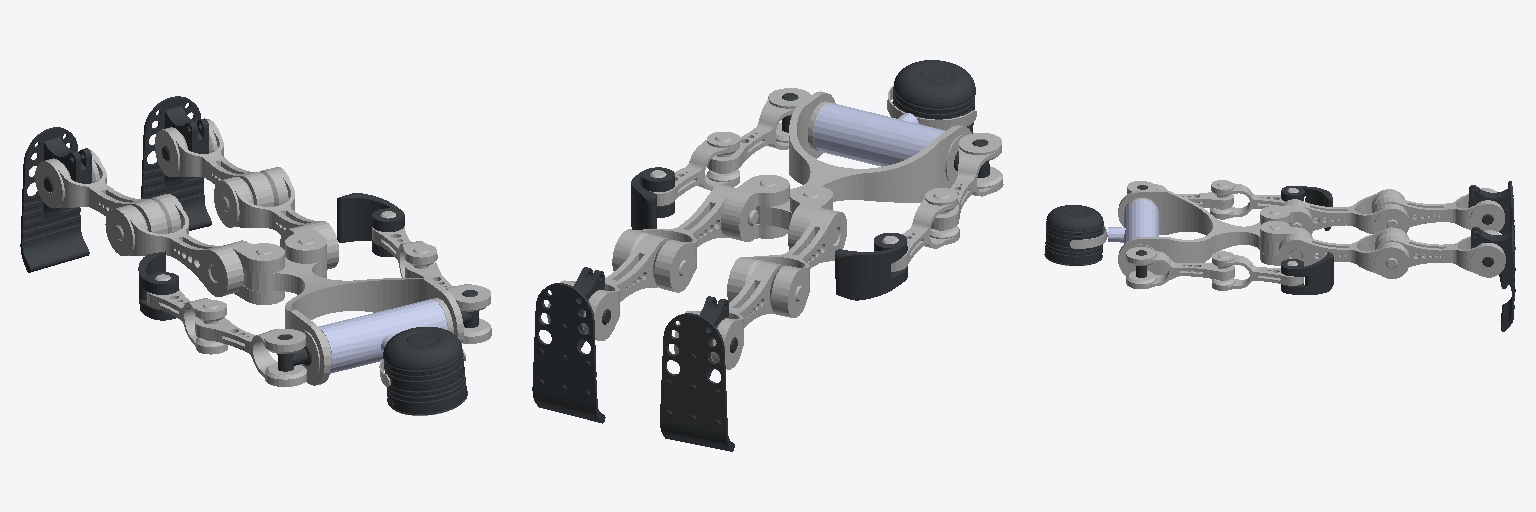
--- Render facts (derived) ---
The picture shows the robot from 3 angles, left to right: view 1: azimuth 30°, elevation 25°; view 2: azimuth 150°, elevation 25°; view 3: azimuth 270°, elevation 25°; orthographic projection.
Model humaniodURDF with 21 links and 20 joints (18 revolute, 2 fixed), rooted at trunk, posed every joint at zero.
Links seen in each view (by area): view 1: trunk, rightFoot, head, rightUpperLeg, leftFoot, shoulder, leftUpperLeg, rightLowLeg, leftLowLeg, rightUpperArm, leftHand, rightLowArm (+6 smaller); view 2: trunk, rightFoot, leftFoot, shoulder, rightUpperLeg, leftUpperLeg, head, rightHand, leftLowLeg, rightLowLeg, rightUpperArm, leftLeg (+6 smaller); view 3: trunk, leftUpperLeg, head, leftLowLeg, rightUpperLeg, rightLowLeg, leftUpperArm, leftLowArm, leftHand, leftFoot, shoulder, rightLowArm (+5 smaller).
Boxes of the visible links, x1=… form: trunk: x1=243, y1=238, x2=463, y2=385; rightFoot: x1=20, y1=127, x2=91, y2=272; head: x1=383, y1=327, x2=467, y2=414; rightUpperLeg: x1=105, y1=194, x2=243, y2=296; leftFoot: x1=141, y1=96, x2=211, y2=230; shoulder: x1=319, y1=299, x2=447, y2=373; leftUpperLeg: x1=214, y1=167, x2=338, y2=269; rightLowLeg: x1=35, y1=149, x2=167, y2=240; leftLowLeg: x1=155, y1=119, x2=273, y2=211; rightUpperArm: x1=195, y1=302, x2=306, y2=386; leftHand: x1=337, y1=193, x2=404, y2=256; rightLowArm: x1=147, y1=274, x2=227, y2=354; trunk: x1=756, y1=91, x2=971, y2=229; rightFoot: x1=660, y1=296, x2=737, y2=451; leftFoot: x1=532, y1=267, x2=610, y2=423; shoulder: x1=813, y1=103, x2=945, y2=166; rightUpperLeg: x1=727, y1=208, x2=846, y2=317; leftUpperLeg: x1=612, y1=184, x2=758, y2=292; head: x1=892, y1=60, x2=975, y2=133; rightHand: x1=835, y1=233, x2=907, y2=300; leftLowLeg: x1=547, y1=234, x2=687, y2=340; rightLowLeg: x1=674, y1=261, x2=802, y2=369; rightUpperArm: x1=931, y1=133, x2=1003, y2=230; leftLeg: x1=721, y1=175, x2=789, y2=241; trunk: x1=1118, y1=190, x2=1289, y2=279; leftUpperLeg: x1=1279, y1=227, x2=1409, y2=278; head: x1=1044, y1=205, x2=1103, y2=265; leftLowLeg: x1=1375, y1=230, x2=1505, y2=277; rightUpperLeg: x1=1281, y1=189, x2=1409, y2=233; rightLowLeg: x1=1373, y1=188, x2=1504, y2=231; leftUpperArm: x1=1126, y1=247, x2=1234, y2=288; leftLowArm: x1=1212, y1=251, x2=1303, y2=290; leftHand: x1=1281, y1=252, x2=1333, y2=294; leftFoot: x1=1471, y1=224, x2=1515, y2=331; shoulder: x1=1108, y1=200, x2=1158, y2=243; rightLowArm: x1=1210, y1=180, x2=1298, y2=219.
Size in the robot's own frame: 0.8044 by 1.78 by 0.3954 metres.
21 mesh visuals loaded from 21 distinct referenced files (21 binary STL).

The robot description file, URDF, robot "humaniodURDF":
<?xml version="1.0" encoding="utf-8"?>
<!-- This URDF was automatically created by SolidWorks to URDF Exporter! Originally created by Stephen Brawner ([email redacted]) 
     Commit Version: 1.6.0-1-g15f4949  Build Version: 1.6.7594.29634
     For more information, please see http://wiki.ros.org/sw_urdf_exporter -->
<robot
  name="humaniodURDF">
  <link
    name="trunk">
    <inertial>
      <origin
        xyz="-0.0196007541950083 -0.648944948529495 0.024353385968482"
        rpy="0 0 0" />
      <mass
        value="5.59080938664047" />
      <inertia
        ixx="0.247517365727123"
        ixy="-7.89918654007842E-07"
        ixz="-4.97184130106616E-07"
        iyy="0.124563077930789"
        iyz="5.75895982312612E-06"
        izz="0.359003812638167" />
    </inertial>
    <visual>
      <origin
        xyz="0 0 0"
        rpy="0 0 0" />
      <geometry>
        <mesh
          filename="package://humaniodURDF/meshes/trunk.STL" />
      </geometry>
      <material
        name="">
        <color
          rgba="0.745098039215686 0.745098039215686 0.745098039215686 1" />
      </material>
    </visual>
    <collision>
      <origin
        xyz="0 0 0"
        rpy="0 0 0" />
      <geometry>
        <mesh
          filename="package://humaniodURDF/meshes/trunk.STL" />
      </geometry>
    </collision>
  </link>
  <link
    name="shoulder">
    <inertial>
      <origin
        xyz="0.00281413265535579 7.70049718122612E-08 0.019600317547966"
        rpy="0 0 0" />
      <mass
        value="0.686395170990813" />
      <inertia
        ixx="0.00865551764844077"
        ixy="3.51058697522643E-09"
        ixz="-2.05382303951221E-08"
        iyy="0.00881608629420832"
        iyz="-1.00843509235348E-09"
        izz="0.00291651715730352" />
    </inertial>
    <visual>
      <origin
        xyz="0 0 0"
        rpy="0 0 0" />
      <geometry>
        <mesh
          filename="package://humaniodURDF/meshes/shoulder.STL" />
      </geometry>
      <material
        name="">
        <color
          rgba="0.792156862745098 0.819607843137255 0.933333333333333 1" />
      </material>
    </visual>
    <collision>
      <origin
        xyz="0 0 0"
        rpy="0 0 0" />
      <geometry>
        <mesh
          filename="package://humaniodURDF/meshes/shoulder.STL" />
      </geometry>
    </collision>
  </link>
  <joint
    name="shoulderJoint"
    type="revolute">
    <origin
      xyz="0 -0.892320830662467 0.0243476825361448"
      rpy="1.5707963267949 -0.0373647645618865 -1.5707963267949" />
    <parent
      link="trunk" />
    <child
      link="shoulder" />
    <axis
      xyz="0 0 1" />
    <limit
      lower="0"
      upper="0"
      effort="0"
      velocity="0" />
  </joint>
  <link
    name="neck">
    <inertial>
      <origin
        xyz="8.12323459886688E-08 4.66688775437041E-08 0.0781850292263323"
        rpy="0 0 0" />
      <mass
        value="0.319541921315556" />
      <inertia
        ixx="0.00112647457064757"
        ixy="3.97035096891069E-09"
        ixz="-3.57396472130261E-09"
        iyy="0.00164167149754665"
        iyz="6.2472139464942E-10"
        izz="0.000626379797317439" />
    </inertial>
    <visual>
      <origin
        xyz="0 0 0"
        rpy="0 0 0" />
      <geometry>
        <mesh
          filename="package://humaniodURDF/meshes/neck.STL" />
      </geometry>
      <material
        name="">
        <color
          rgba="0.745098039215686 0.745098039215686 0.745098039215686 1" />
      </material>
    </visual>
    <collision>
      <origin
        xyz="0 0 0"
        rpy="0 0 0" />
      <geometry>
        <mesh
          filename="package://humaniodURDF/meshes/neck.STL" />
      </geometry>
    </collision>
  </link>
  <joint
    name="neckJoint"
    type="revolute">
    <origin
      xyz="0.016865 0 0.0196"
      rpy="1.5708 1.4822 1.5708" />
    <parent
      link="shoulder" />
    <child
      link="neck" />
    <axis
      xyz="0 0 1" />
    <limit
      lower="0"
      upper="0"
      effort="0"
      velocity="0" />
  </joint>
  <link
    name="head">
    <inertial>
      <origin
        xyz="3.40361308503664E-06 0.00614774631013307 8.79188126967634E-07"
        rpy="0 0 0" />
      <mass
        value="0.151198318939457" />
      <inertia
        ixx="0.00128943819163848"
        ixy="4.35664804797042E-09"
        ixz="-5.21634488341657E-07"
        iyy="0.00154248586396279"
        iyz="-5.92070333195862E-09"
        izz="0.00131076510276719" />
    </inertial>
    <visual>
      <origin
        xyz="0 0 0"
        rpy="0 0 0" />
      <geometry>
        <mesh
          filename="package://humaniodURDF/meshes/head.STL" />
      </geometry>
      <material
        name="">
        <color
          rgba="0.262745098039216 0.282352941176471 0.298039215686275 1" />
      </material>
    </visual>
    <collision>
      <origin
        xyz="0 0 0"
        rpy="0 0 0" />
      <geometry>
        <mesh
          filename="package://humaniodURDF/meshes/head.STL" />
      </geometry>
    </collision>
  </link>
  <joint
    name="headJoint"
    type="fixed">
    <origin
      xyz="0 0 0.236817064766238"
      rpy="0 0 0" />
    <parent
      link="neck" />
    <child
      link="head" />
    <axis
      xyz="0 0 0" />
    <limit
      lower="0"
      upper="0"
      effort="0"
      velocity="0" />
  </joint>
  <link
    name="face">
    <inertial>
      <origin
        xyz="0 -0.00309876283174063 0"
        rpy="0 0 0" />
      <mass
        value="0.0657059672105683" />
      <inertia
        ixx="0.0001932443956556"
        ixy="6.63015039463304E-19"
        ixz="-2.71050543121376E-20"
        iyy="0.000386454172107391"
        iyz="-1.18838722499778E-18"
        izz="0.0001932443956556" />
    </inertial>
    <visual>
      <origin
        xyz="0 0 0"
        rpy="0 0 0" />
      <geometry>
        <mesh
          filename="package://humaniodURDF/meshes/face.STL" />
      </geometry>
      <material
        name="">
        <color
          rgba="0.745098039215686 0.745098039215686 0.745098039215686 1" />
      </material>
    </visual>
    <collision>
      <origin
        xyz="0 0 0"
        rpy="0 0 0" />
      <geometry>
        <mesh
          filename="package://humaniodURDF/meshes/face.STL" />
      </geometry>
    </collision>
  </link>
  <joint
    name="faceJoint"
    type="fixed">
    <origin
      xyz="0 -0.0889127371682583 0"
      rpy="3.14159265358979 -0.511507995868017 -3.14159265358979" />
    <parent
      link="head" />
    <child
      link="face" />
    <axis
      xyz="-0.0588509881535453 0.995379127212307 -0.0758745959028304" />
  </joint>
  <link
    name="leftShoulder">
    <inertial>
      <origin
        xyz="0.0918073535217744 -1.7787782136125E-08 1.52168755707116E-07"
        rpy="0 0 0" />
      <mass
        value="0.398306716640249" />
      <inertia
        ixx="0.000379759274328992"
        ixy="-2.80746671550173E-09"
        ixz="-3.69146561641154E-10"
        iyy="0.000861309636580548"
        iyz="-2.70985979680926E-09"
        izz="0.00113108827179537" />
    </inertial>
    <visual>
      <origin
        xyz="0 0 0"
        rpy="0 0 0" />
      <geometry>
        <mesh
          filename="package://humaniodURDF/meshes/leftShoulder.STL" />
      </geometry>
      <material
        name="">
        <color
          rgba="0.262745098039216 0.282352941176471 0.298039215686275 1" />
      </material>
    </visual>
    <collision>
      <origin
        xyz="0 0 0"
        rpy="0 0 0" />
      <geometry>
        <mesh
          filename="package://humaniodURDF/meshes/leftShoulder.STL" />
      </geometry>
    </collision>
  </link>
  <joint
    name="leftShoulderJoint"
    type="revolute">
    <origin
      xyz="0.14264 -0.89232 0.024348"
      rpy="-1.5742 0 0" />
    <parent
      link="trunk" />
    <child
      link="leftShoulder" />
    <axis
      xyz="1 0 0" />
    <limit
      lower="0"
      upper="0"
      effort="0"
      velocity="0" />
  </joint>
  <link
    name="leftUpperArm">
    <inertial>
      <origin
        xyz="-1.0563352220716E-08 -1.25698858080558E-05 -0.135948032674192"
        rpy="0 0 0" />
      <mass
        value="1.22449547352017" />
      <inertia
        ixx="0.0242187730875998"
        ixy="-1.12933198423838E-09"
        ixz="-1.01190256799049E-08"
        iyy="0.0252517370821193"
        iyz="-2.11304105927723E-06"
        izz="0.00246877671143393" />
    </inertial>
    <visual>
      <origin
        xyz="0 0 0"
        rpy="0 0 0" />
      <geometry>
        <mesh
          filename="package://humaniodURDF/meshes/leftUpperArm.STL" />
      </geometry>
      <material
        name="">
        <color
          rgba="0.745098039215686 0.745098039215686 0.745098039215686 1" />
      </material>
    </visual>
    <collision>
      <origin
        xyz="0 0 0"
        rpy="0 0 0" />
      <geometry>
        <mesh
          filename="package://humaniodURDF/meshes/leftUpperArm.STL" />
      </geometry>
    </collision>
  </link>
  <joint
    name="leftUpperArmJoint"
    type="revolute">
    <origin
      xyz="0.128906887410836 0 0"
      rpy="3.06340623894063 0 -1.5707963267949" />
    <parent
      link="leftShoulder" />
    <child
      link="leftUpperArm" />
    <axis
      xyz="1 0 0" />
    <limit
      lower="0"
      upper="0"
      effort="0"
      velocity="0" />
  </joint>
  <link
    name="leftLowArm">
    <inertial>
      <origin
        xyz="4.56590011632674E-09 -1.32690687111858E-05 -0.143238186727596"
        rpy="0 0 0" />
      <mass
        value="0.889919890504689" />
      <inertia
        ixx="0.0122727616722074"
        ixy="-2.77887950443558E-10"
        ixz="-8.75320512326214E-09"
        iyy="0.0129678330826334"
        iyz="-1.06952215436892E-06"
        izz="0.00144235018216805" />
    </inertial>
    <visual>
      <origin
        xyz="0 0 0"
        rpy="0 0 0" />
      <geometry>
        <mesh
          filename="package://humaniodURDF/meshes/leftLowArm.STL" />
      </geometry>
      <material
        name="">
        <color
          rgba="0.745098039215686 0.745098039215686 0.745098039215686 1" />
      </material>
    </visual>
    <collision>
      <origin
        xyz="0 0 0"
        rpy="0 0 0" />
      <geometry>
        <mesh
          filename="package://humaniodURDF/meshes/leftLowArm.STL" />
      </geometry>
    </collision>
  </link>
  <joint
    name="leftElbow"
    type="revolute">
    <origin
      xyz="0 -2.8829164424371E-05 -0.311149998664438"
      rpy="-0.102170080502436 0 0" />
    <parent
      link="leftUpperArm" />
    <child
      link="leftLowArm" />
    <axis
      xyz="1 0 0" />
    <limit
      lower="0"
      upper="0"
      effort="0"
      velocity="0" />
  </joint>
  <link
    name="leftHand">
    <inertial>
      <origin
        xyz="1.98012649304247E-05 0.000283275387074677 -0.0693309767624268"
        rpy="0 0 0" />
      <mass
        value="0.793553314793186" />
      <inertia
        ixx="0.00371655908859085"
        ixy="-1.92812890678629E-07"
        ixz="3.08565752039683E-07"
        iyy="0.00418080865538126"
        iyz="-0.000503457171592002"
        izz="0.00179333225741833" />
    </inertial>
    <visual>
      <origin
        xyz="0 0 0"
        rpy="0 0 0" />
      <geometry>
        <mesh
          filename="package://humaniodURDF/meshes/leftHand.STL" />
      </geometry>
      <material
        name="">
        <color
          rgba="0.262745098039216 0.282352941176471 0.298039215686275 1" />
      </material>
    </visual>
    <collision>
      <origin
        xyz="0 0 0"
        rpy="0 0 0" />
      <geometry>
        <mesh
          filename="package://humaniodURDF/meshes/leftHand.STL" />
      </geometry>
    </collision>
  </link>
  <joint
    name="leftWrist"
    type="revolute">
    <origin
      xyz="0 -2.47107123608759E-05 -0.266699998855232"
      rpy="-0.276918679247829 1.26654224345601E-05 -3.1415480917339" />
    <parent
      link="leftLowArm" />
    <child
      link="leftHand" />
    <axis
      xyz="0.999999998926914 -4.6326794879854E-05 0" />
    <limit
      lower="0"
      upper="0"
      effort="0"
      velocity="0" />
  </joint>
  <link
    name="rightShoulder">
    <inertial>
      <origin
        xyz="0.0918073535217748 -1.7787782136125E-08 1.52168755596094E-07"
        rpy="0 0 0" />
      <mass
        value="0.398306716640246" />
      <inertia
        ixx="0.000379755493333687"
        ixy="-1.85701887390622E-09"
        ixz="-1.19085319234107E-09"
        iyy="0.000861306869954538"
        iyz="-3.49607611312358E-09"
        izz="0.00113108652107156" />
    </inertial>
    <visual>
      <origin
        xyz="0 0 0"
        rpy="0 0 0" />
      <geometry>
        <mesh
          filename="package://humaniodURDF/meshes/rightShoulder.STL" />
      </geometry>
      <material
        name="">
        <color
          rgba="0.262745098039216 0.282352941176471 0.298039215686275 1" />
      </material>
    </visual>
    <collision>
      <origin
        xyz="0 0 0"
        rpy="0 0 0" />
      <geometry>
        <mesh
          filename="package://humaniodURDF/meshes/rightShoulder.STL" />
      </geometry>
    </collision>
  </link>
  <joint
    name="rightShoulderJoint"
    type="revolute">
    <origin
      xyz="-0.18184 -0.89232 0.024348"
      rpy="-1.5149 0 3.1416" />
    <parent
      link="trunk" />
    <child
      link="rightShoulder" />
    <axis
      xyz="1 0 0" />
    <limit
      lower="0"
      upper="0"
      effort="0"
      velocity="0" />
  </joint>
  <link
    name="rightUpperArm">
    <inertial>
      <origin
        xyz="0.00444498735831533 -1.25529617410192E-05 -0.135948035131557"
        rpy="0 0 0" />
      <mass
        value="1.22449704111065" />
      <inertia
        ixx="0.0242187687748866"
        ixy="-1.38260726543875E-09"
        ixz="-8.51895058851969E-09"
        iyy="0.0252517345071369"
        iyz="-2.11527546791472E-06"
        izz="0.0024687784169452" />
    </inertial>
    <visual>
      <origin
        xyz="0 0 0"
        rpy="0 0 0" />
      <geometry>
        <mesh
          filename="package://humaniodURDF/meshes/rightUpperArm.STL" />
      </geometry>
      <material
        name="">
        <color
          rgba="0.745098039215686 0.745098039215686 0.745098039215686 1" />
      </material>
    </visual>
    <collision>
      <origin
        xyz="0 0 0"
        rpy="0 0 0" />
      <geometry>
        <mesh
          filename="package://humaniodURDF/meshes/rightUpperArm.STL" />
      </geometry>
    </collision>
  </link>
  <joint
    name="rightUpperArmJoint"
    type="revolute">
    <origin
      xyz="0.128906887410834 0 0"
      rpy="0.187243719893693 0 -1.57079632679489" />
    <parent
      link="rightShoulder" />
    <child
      link="rightUpperArm" />
    <axis
      xyz="1 0 0" />
    <limit
      lower="0"
      upper="0"
      effort="0"
      velocity="0" />
  </joint>
  <link
    name="rightLowArm">
    <inertial>
      <origin
        xyz="0.00444503581137112 -1.32561285461352E-05 -0.143238231974904"
        rpy="0 0 0" />
      <mass
        value="0.889920740054391" />
      <inertia
        ixx="0.0122727682700744"
        ixy="1.5452059052998E-10"
        ixz="-8.1111178429176E-12"
        iyy="0.012967855389412"
        iyz="-1.06788376477606E-06"
        izz="0.00144236816517013" />
    </inertial>
    <visual>
      <origin
        xyz="0 0 0"
        rpy="0 0 0" />
      <geometry>
        <mesh
          filename="package://humaniodURDF/meshes/rightLowArm.STL" />
      </geometry>
      <material
        name="">
        <color
          rgba="0.745098039215686 0.745098039215686 0.745098039215686 1" />
      </material>
    </visual>
    <collision>
      <origin
        xyz="0 0 0"
        rpy="0 0 0" />
      <geometry>
        <mesh
          filename="package://humaniodURDF/meshes/rightLowArm.STL" />
      </geometry>
    </collision>
  </link>
  <joint
    name="rightElbow"
    type="revolute">
    <origin
      xyz="0 -2.88291644213179E-05 -0.311149998664441"
      rpy="-0.196017426583645 0 0" />
    <parent
      link="rightUpperArm" />
    <child
      link="rightLowArm" />
    <axis
      xyz="1 0 0" />
    <limit
      lower="0"
      upper="0"
      effort="0"
      velocity="0" />
  </joint>
  <link
    name="rightHand">
    <inertial>
      <origin
        xyz="0.00446472420663108 0.000283160397372029 -0.0693309522643951"
        rpy="0 0 0" />
      <mass
        value="0.79355376546813" />
      <inertia
        ixx="0.00371652044707097"
        ixy="-2.00274906650779E-07"
        ixz="3.30711776071939E-07"
        iyy="0.00418075896214469"
        iyz="-0.000503462184912338"
        izz="0.00179331951230809" />
    </inertial>
    <visual>
      <origin
        xyz="0 0 0"
        rpy="0 0 0" />
      <geometry>
        <mesh
          filename="package://humaniodURDF/meshes/rightHand.STL" />
      </geometry>
      <material
        name="">
        <color
          rgba="0.262745098039216 0.282352941176471 0.298039215686275 1" />
      </material>
    </visual>
    <collision>
      <origin
        xyz="0 0 0"
        rpy="0 0 0" />
      <geometry>
        <mesh
          filename="package://humaniodURDF/meshes/rightHand.STL" />
      </geometry>
    </collision>
  </link>
  <joint
    name="rightWrist"
    type="revolute">
    <origin
      xyz="0 -2.47107123674262E-05 -0.266699998855228"
      rpy="-0.161310010521894 0 4.57253678375124E-05" />
    <parent
      link="rightLowArm" />
    <child
      link="rightHand" />
    <axis
      xyz="0.999999998926914 -4.63267948804386E-05 0" />
    <limit
      lower="0"
      upper="0"
      effort="0"
      velocity="0" />
  </joint>
  <link
    name="leftLeg">
    <inertial>
      <origin
        xyz="-0.0140312166556699 -0.0243476825748023 -0.0406899939412113"
        rpy="0 0 0" />
      <mass
        value="1.29801822049689" />
      <inertia
        ixx="0.00634087383416736"
        ixy="5.98110207295912E-13"
        ixz="-0.000839194088393146"
        iyy="0.00501566524287416"
        iyz="-7.2696223255343E-13"
        izz="0.00366294441619639" />
    </inertial>
    <visual>
      <origin
        xyz="0 0 0"
        rpy="0 0 0" />
      <geometry>
        <mesh
          filename="package://humaniodURDF/meshes/leftLeg.STL" />
      </geometry>
      <material
        name="">
        <color
          rgba="0.745098039215686 0.745098039215686 0.745098039215686 1" />
      </material>
    </visual>
    <collision>
      <origin
        xyz="0 0 0"
        rpy="0 0 0" />
      <geometry>
        <mesh
          filename="package://humaniodURDF/meshes/leftLeg.STL" />
      </geometry>
    </collision>
  </link>
  <joint
    name="leftLegJoint"
    type="revolute">
    <origin
      xyz="0.047075 -0.38486 0"
      rpy="-1.5708 0 3.1262" />
    <parent
      link="trunk" />
    <child
      link="leftLeg" />
    <axis
      xyz="0 1 0" />
    <limit
      lower="0"
      upper="0"
      effort="0"
      velocity="0" />
  </joint>
  <link
    name="leftUpperLeg">
    <inertial>
      <origin
        xyz="-0.082181899311937 -7.43849803280794E-09 -0.219685923447187"
        rpy="0 0 0" />
      <mass
        value="2.76982558015538" />
      <inertia
        ixx="0.0786896033300453"
        ixy="5.36705478115253E-10"
        ixz="-0.0013831829847372"
        iyy="0.0827348902139064"
        iyz="3.84752664613335E-09"
        izz="0.00964980494272936" />
    </inertial>
    <visual>
      <origin
        xyz="0 0 0"
        rpy="0 0 0" />
      <geometry>
        <mesh
          filename="package://humaniodURDF/meshes/leftUpperLeg.STL" />
      </geometry>
      <material
        name="">
        <color
          rgba="0.745098039215686 0.745098039215686 0.745098039215686 1" />
      </material>
    </visual>
    <collision>
      <origin
        xyz="0 0 0"
        rpy="0 0 0" />
      <geometry>
        <mesh
          filename="package://humaniodURDF/meshes/leftUpperLeg.STL" />
      </geometry>
    </collision>
  </link>
  <joint
    name="leftHip"
    type="revolute">
    <origin
      xyz="0 -0.024348 -0.08001"
      rpy="0 0 0" />
    <parent
      link="leftLeg" />
    <child
      link="leftUpperLeg" />
    <axis
      xyz="1 0 0" />
    <limit
      lower="0"
      upper="0"
      effort="0"
      velocity="0" />
  </joint>
  <link
    name="leftLowLeg">
    <inertial>
      <origin
        xyz="0.0844549638963536 -5.53269638367548E-08 -0.183079532608187"
        rpy="0 0 0" />
      <mass
        value="2.46747143989954" />
      <inertia
        ixx="0.0708123765986619"
        ixy="2.51146204386429E-09"
        ixz="1.70062515223473E-08"
        iyy="0.0726281239997501"
        iyz="-1.41898178940454E-08"
        izz="0.00637328878292162" />
    </inertial>
    <visual>
      <origin
        xyz="0 0 0"
        rpy="0 0 0" />
      <geometry>
        <mesh
          filename="package://humaniodURDF/meshes/leftLowLeg.STL" />
      </geometry>
      <material
        name="">
        <color
          rgba="0.745098039215686 0.745098039215686 0.745098039215686 1" />
      </material>
    </visual>
    <collision>
      <origin
        xyz="0 0 0"
        rpy="0 0 0" />
      <geometry>
        <mesh
          filename="package://humaniodURDF/meshes/leftLowLeg.STL" />
      </geometry>
    </collision>
  </link>
  <joint
    name="leftKnee"
    type="revolute">
    <origin
      xyz="0 0 -0.36449"
      rpy="0 0 3.1416" />
    <parent
      link="leftUpperLeg" />
    <child
      link="leftLowLeg" />
    <axis
      xyz="1 0 0" />
    <limit
      lower="0"
      upper="0"
      effort="0"
      velocity="0" />
  </joint>
  <link
    name="leftFoot">
    <inertial>
      <origin
        xyz="0.0844549965801339 -0.0441688995757643 -0.0401712534106414"
        rpy="0 0 0" />
      <mass
        value="1.98990761790378" />
      <inertia
        ixx="0.0242620018256098"
        ixy="1.19851202719546E-09"
        ixz="-4.05392956562885E-10"
        iyy="0.00731293436435554"
        iyz="-0.00432133389742574"
        izz="0.0221077496258093" />
    </inertial>
    <visual>
      <origin
        xyz="0 0 0"
        rpy="0 0 0" />
      <geometry>
        <mesh
          filename="package://humaniodURDF/meshes/leftFoot.STL" />
      </geometry>
      <material
        name="">
        <color
          rgba="0.262745098039216 0.282352941176471 0.298039215686275 1" />
      </material>
    </visual>
    <collision>
      <origin
        xyz="0 0 0"
        rpy="0 0 0" />
      <geometry>
        <mesh
          filename="package://humaniodURDF/meshes/leftFoot.STL" />
      </geometry>
    </collision>
  </link>
  <joint
    name="leftAnkle"
    type="revolute">
    <origin
      xyz="0 0 -0.36449"
      rpy="0 0 0" />
    <parent
      link="leftLowLeg" />
    <child
      link="leftFoot" />
    <axis
      xyz="1 0 0" />
    <limit
      lower="0"
      upper="0"
      effort="0"
      velocity="0" />
  </joint>
  <link
    name="rightLeg">
    <inertial>
      <origin
        xyz="-0.0140312166540413 0.0243476824979306 -0.0406899939406142"
        rpy="0 0 0" />
      <mass
        value="1.29801822041189" />
      <inertia
        ixx="0.00634087383415415"
        ixy="5.72021539796275E-13"
        ixz="-0.000839194088365577"
        iyy="0.00501566524292576"
        iyz="-7.19379608192522E-13"
        izz="0.00366294441624296" />
    </inertial>
    <visual>
      <origin
        xyz="0 0 0"
        rpy="0 0 0" />
      <geometry>
        <mesh
          filename="package://humaniodURDF/meshes/rightLeg.STL" />
      </geometry>
      <material
        name="">
        <color
          rgba="0.745098039215686 0.745098039215686 0.745098039215686 1" />
      </material>
    </visual>
    <collision>
      <origin
        xyz="0 0 0"
        rpy="0 0 0" />
      <geometry>
        <mesh
          filename="package://humaniodURDF/meshes/rightLeg.STL" />
      </geometry>
    </collision>
  </link>
  <joint
    name="rightLegJoint"
    type="revolute">
    <origin
      xyz="-0.086275 -0.38486 0"
      rpy="1.5708 0 0.080694" />
    <parent
      link="trunk" />
    <child
      link="rightLeg" />
    <axis
      xyz="0 1 0" />
    <limit
      lower="0"
      upper="0"
      effort="0"
      velocity="0" />
  </joint>
  <link
    name="rightUpperLeg">
    <inertial>
      <origin
        xyz="-0.0821818981091222 -7.23579403512364E-09 -0.219685923250081"
        rpy="0 0 0" />
      <mass
        value="2.76982551611545" />
      <inertia
        ixx="0.0786896038537794"
        ixy="5.34360892611319E-10"
        ixz="-0.00138318251145472"
        iyy="0.0827348898334438"
        iyz="3.75127736160349E-09"
        izz="0.00964980395486537" />
    </inertial>
    <visual>
      <origin
        xyz="0 0 0"
        rpy="0 0 0" />
      <geometry>
        <mesh
          filename="package://humaniodURDF/meshes/rightUpperLeg.STL" />
      </geometry>
      <material
        name="">
        <color
          rgba="0.745098039215686 0.745098039215686 0.745098039215686 1" />
      </material>
    </visual>
    <collision>
      <origin
        xyz="0 0 0"
        rpy="0 0 0" />
      <geometry>
        <mesh
          filename="package://humaniodURDF/meshes/rightUpperLeg.STL" />
      </geometry>
    </collision>
  </link>
  <joint
    name="rightHip"
    type="revolute">
    <origin
      xyz="0 0.024348 -0.08001"
      rpy="0 0 0" />
    <parent
      link="rightLeg" />
    <child
      link="rightUpperLeg" />
    <axis
      xyz="1 0 0" />
    <limit
      lower="0"
      upper="0"
      effort="0"
      velocity="0" />
  </joint>
  <link
    name="rightLowLeg">
    <inertial>
      <origin
        xyz="-0.084455023948756 -5.41023503150551E-08 -0.183079541179554"
        rpy="0 0 0" />
      <mass
        value="2.46747169628255" />
      <inertia
        ixx="0.0708123761563286"
        ixy="3.23373116409558E-09"
        ixz="2.71574868312388E-08"
        iyy="0.0726281264048344"
        iyz="-1.33193510304304E-08"
        izz="0.00637329168231261" />
    </inertial>
    <visual>
      <origin
        xyz="0 0 0"
        rpy="0 0 0" />
      <geometry>
        <mesh
          filename="package://humaniodURDF/meshes/rightLowLeg.STL" />
      </geometry>
      <material
        name="">
        <color
          rgba="0.745098039215686 0.745098039215686 0.745098039215686 1" />
      </material>
    </visual>
    <collision>
      <origin
        xyz="0 0 0"
        rpy="0 0 0" />
      <geometry>
        <mesh
          filename="package://humaniodURDF/meshes/rightLowLeg.STL" />
      </geometry>
    </collision>
  </link>
  <joint
    name="rightKnee"
    type="revolute">
    <origin
      xyz="0 0 -0.36449"
      rpy="0 0 0" />
    <parent
      link="rightUpperLeg" />
    <child
      link="rightLowLeg" />
    <axis
      xyz="1 0 0" />
    <limit
      lower="0"
      upper="0"
      effort="0"
      velocity="0" />
  </joint>
  <link
    name="rightFoot">
    <inertial>
      <origin
        xyz="-0.0844549990038871 -0.0441689004281642 -0.0401712575520694"
        rpy="0 0 0" />
      <mass
        value="1.98990804777037" />
      <inertia
        ixx="0.0242620026763407"
        ixy="1.85427597430322E-09"
        ixz="-2.10467612522108E-10"
        iyy="0.00731293537725986"
        iyz="-0.00432133398496251"
        izz="0.0221077509541996" />
    </inertial>
    <visual>
      <origin
        xyz="0 0 0"
        rpy="0 0 0" />
      <geometry>
        <mesh
          filename="package://humaniodURDF/meshes/rightFoot.STL" />
      </geometry>
      <material
        name="">
        <color
          rgba="0.262745098039216 0.282352941176471 0.298039215686275 1" />
      </material>
    </visual>
    <collision>
      <origin
        xyz="0 0 0"
        rpy="0 0 0" />
      <geometry>
        <mesh
          filename="package://humaniodURDF/meshes/rightFoot.STL" />
      </geometry>
    </collision>
  </link>
  <joint
    name="rightAnkle"
    type="revolute">
    <origin
      xyz="0 0 -0.36449"
      rpy="0 0 0" />
    <parent
      link="rightLowLeg" />
    <child
      link="rightFoot" />
    <axis
      xyz="1 0 0" />
    <limit
      lower="0"
      upper="0"
      effort="0"
      velocity="0" />
  </joint>
</robot>
